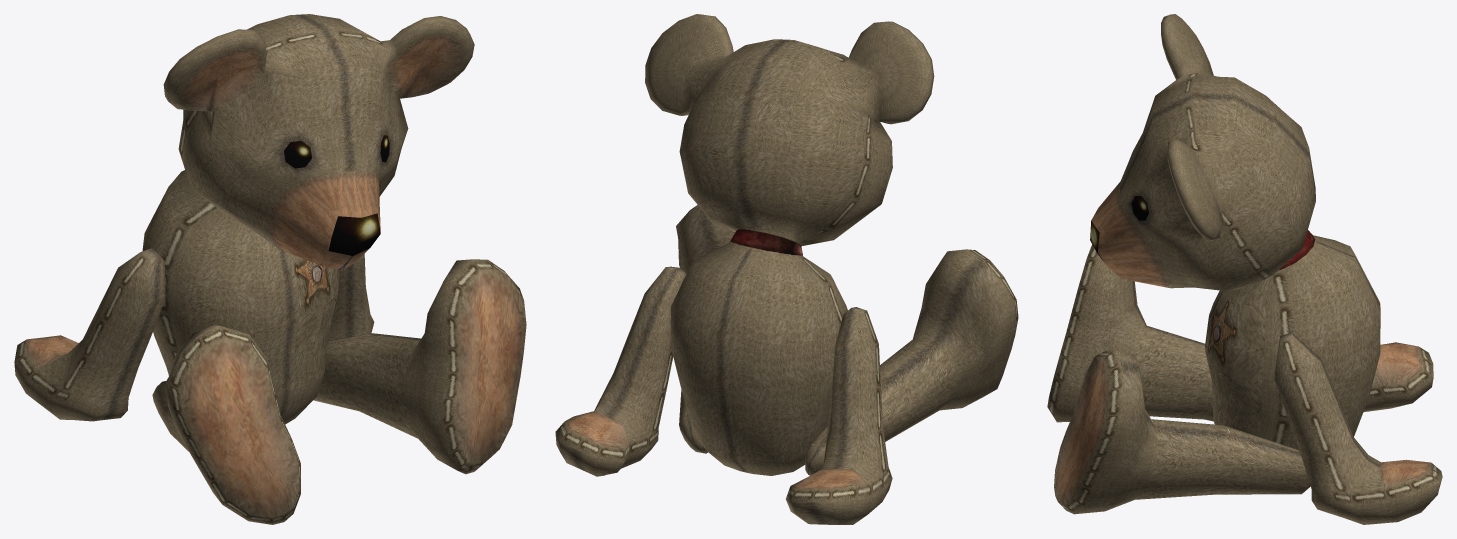
File: TeddyBear.FBX
3 views of the same model, side by side, from view 1: azimuth 30°, elevation 25°; view 2: azimuth 150°, elevation 25°; view 3: azimuth 270°, elevation 25° (orthographic). The views are drawn at different scales.
Parts seen in each view (by area): view 1: Model001_Teddy; view 2: Model001_Teddy; view 3: Model001_Teddy.
Boxes of the visible parts, box(x1,y1,x2,y2) form: Model001_Teddy: box(14, 14, 526, 524); Model001_Teddy: box(555, 14, 1018, 524); Model001_Teddy: box(1047, 14, 1442, 524).
Size of the model in its own units: 408 by 495 by 422.
1 material, 1 textured.
